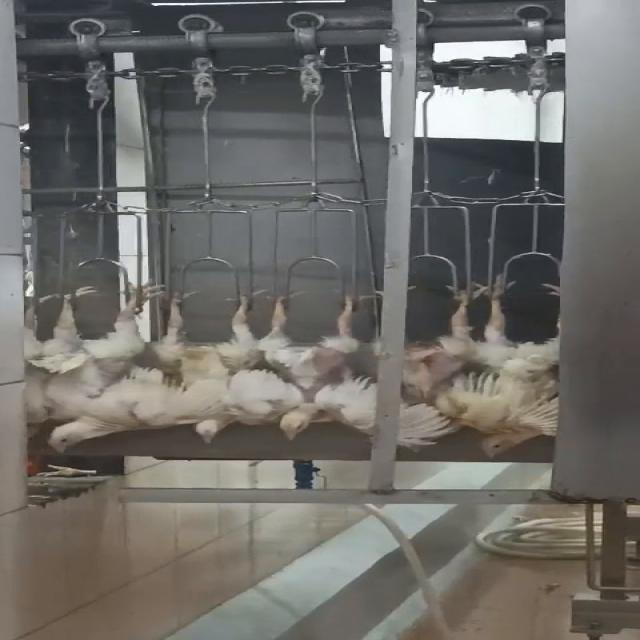chicken: (132, 283, 278, 448), (25, 280, 149, 456), (251, 283, 373, 442), (471, 272, 563, 454), (393, 276, 483, 455)
